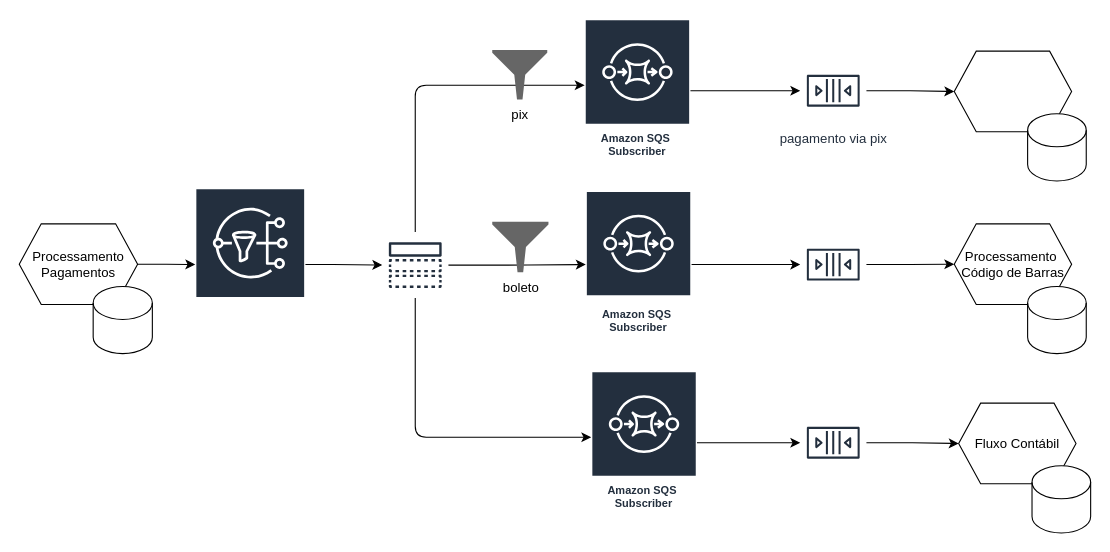
The diagram is 1110 pixels wide and 552 high, and some of its shapes have lost their labels. Here are the shapes that lost their labels. From the top down, the centre of each, then its label:
pixel 1012 91: Processamento QR Code
pixel 249 264: Amazon SNS Publisher
pixel 414 264: pagamento efetuado
pixel 832 264: pagamento via boleto
pixel 832 442: contabil
